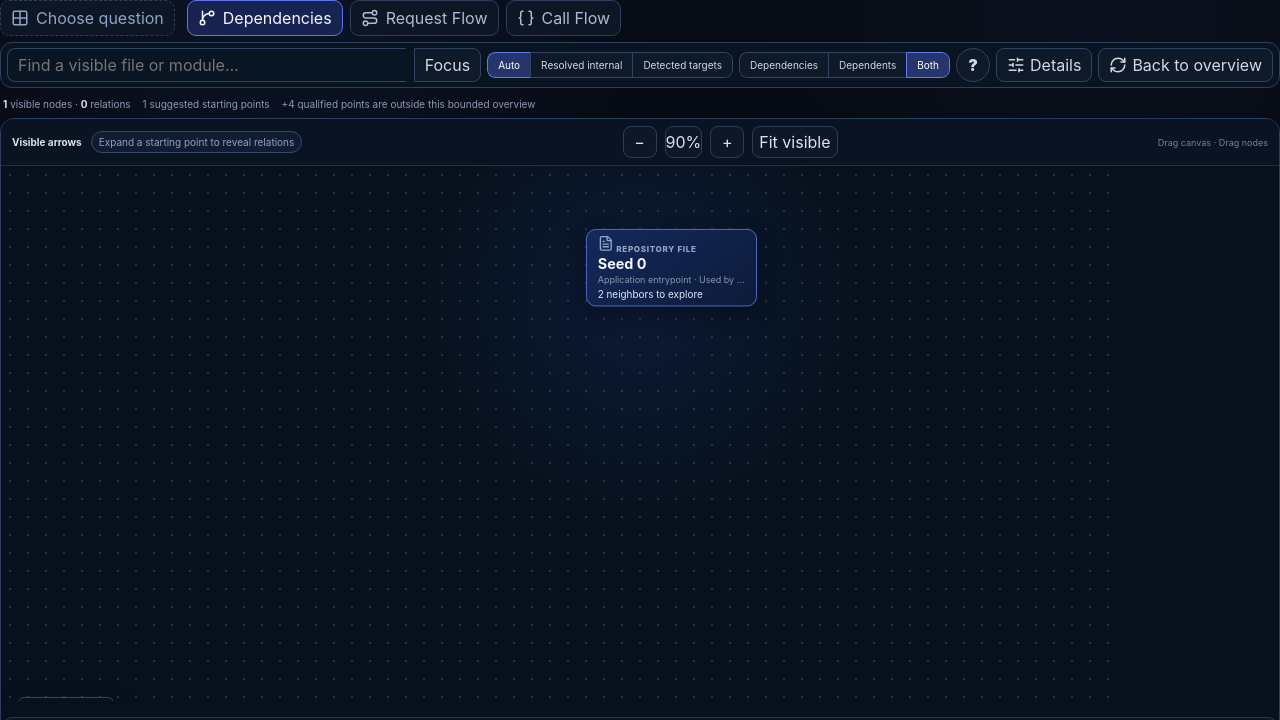
Scenario: GraphPage progressive dependency UX › disables expansion for a confirmed leaf and hides the irrelevant branch action
Click the button "Seed 0" at {"x": 672, "y": 268}, box top-left (586, 229), bottom-right (757, 306)
(page scrolled)
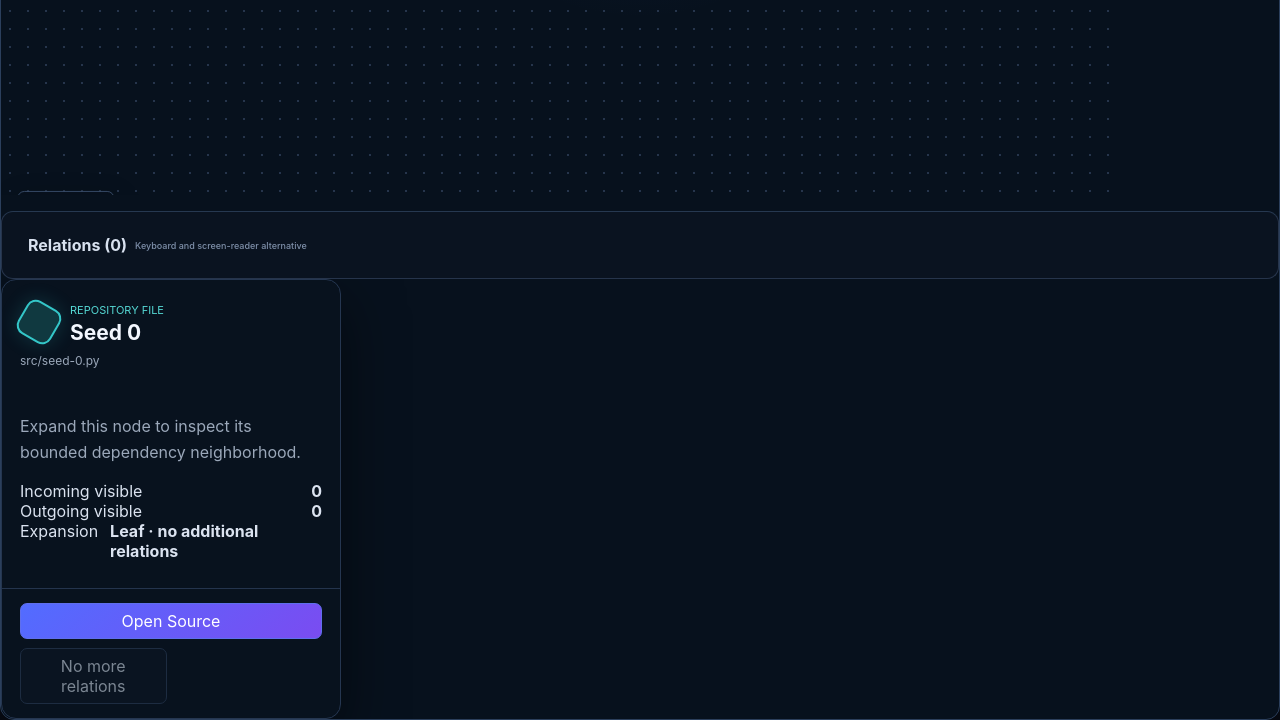
Expected: the button "No more relations" is disabled, top-left (20, 648), bottom-right (166, 704)
